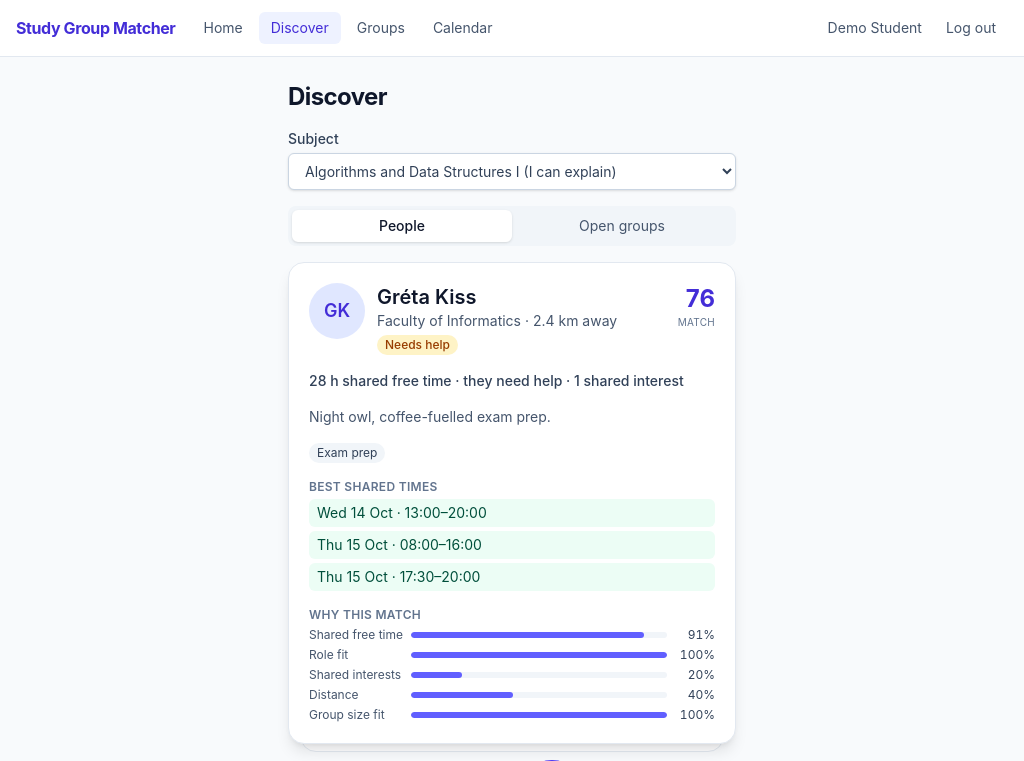
Test case: DiscoverPage › switches subject and resets the deck
This screenshot has width=1024, height=761.
Select "Databases I (Study as peers)" in the dropdown labelled "Subject" at [512, 172], box 288,153 -> 736,190
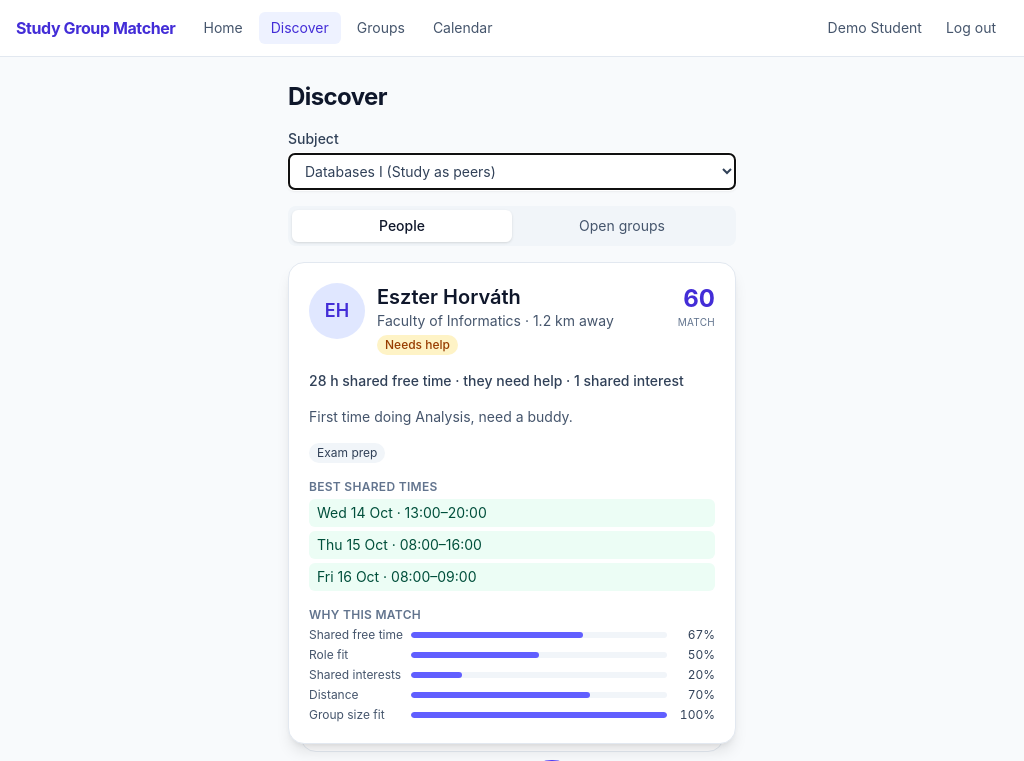
expect the element named "Eszter Horváth" is shown: met, box 288,262 -> 736,744
Click the radio button labelled "Open groups" at [622, 226], box 512,210 -> 732,242
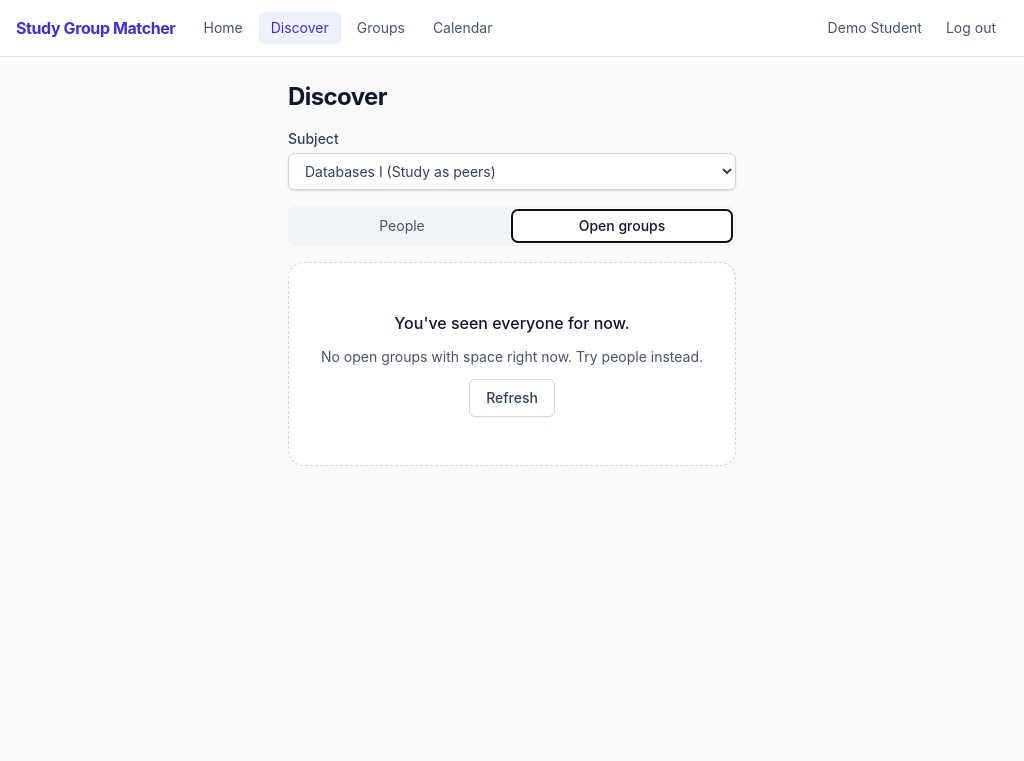
expect the text "You've seen everyone for now." is shown: met, box 394,311 -> 630,335
